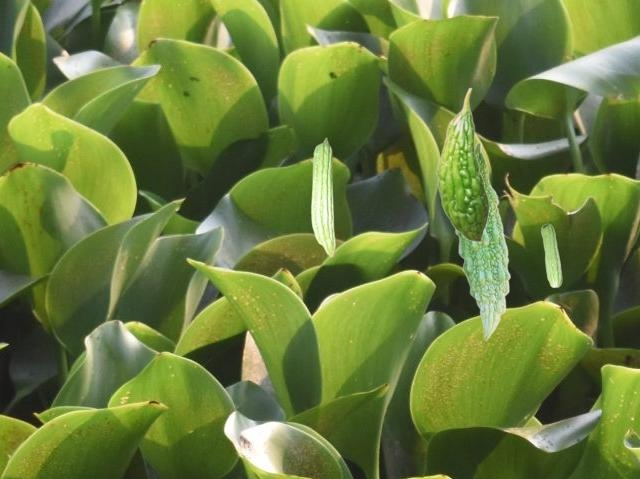ampalaya: (454, 141, 511, 340), (435, 87, 490, 245), (310, 137, 335, 257), (540, 223, 562, 288)
